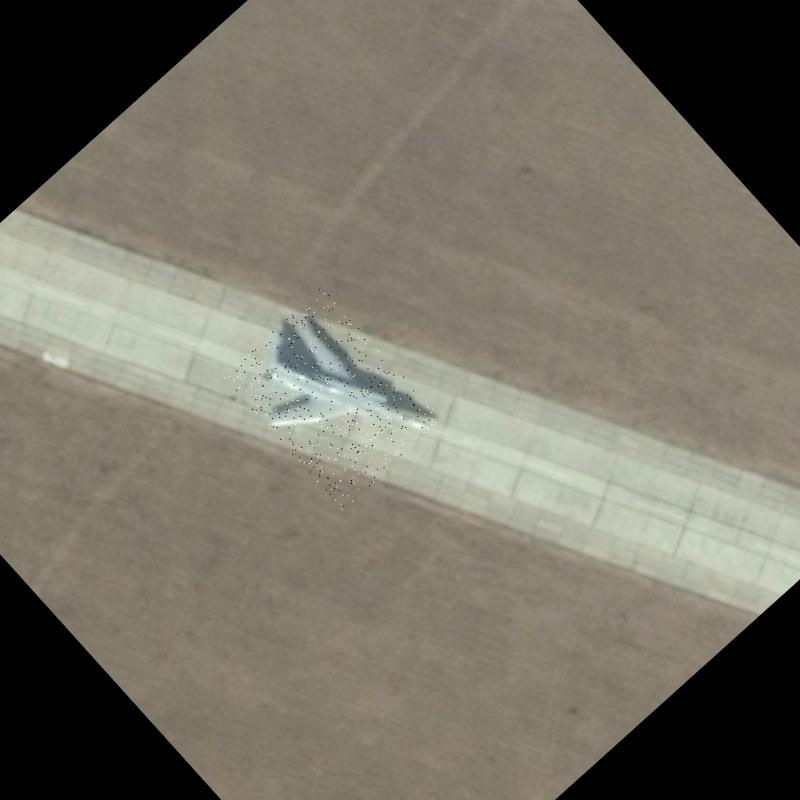A12: (222, 286, 443, 510)
